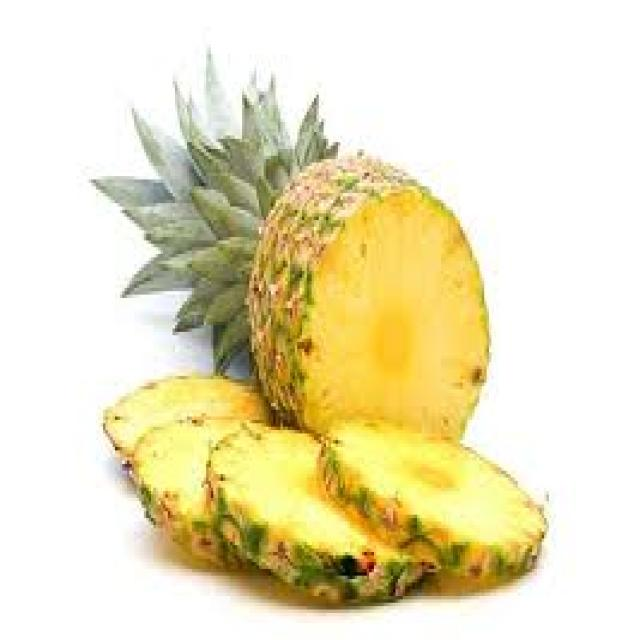pineapple: (89, 21, 554, 600)
